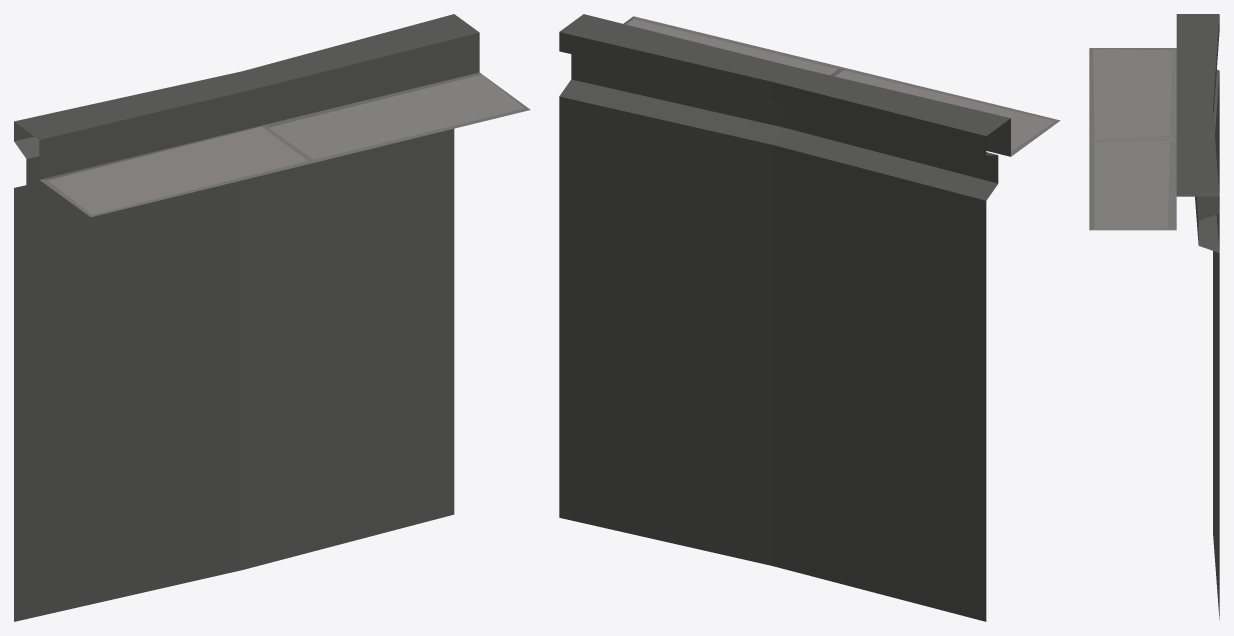
Rendered from SM_Env_WaterEdge_Straight_03.glb.
3 renders of one model, left to right at view 1: azimuth 30°, elevation 25°; view 2: azimuth 150°, elevation 25°; view 3: azimuth 270°, elevation 25°, orthographic. The views are drawn at different scales.
Visible parts, largest first — view 1: SM_Env_WaterEdge_Straight_03; view 2: SM_Env_WaterEdge_Straight_03; view 3: SM_Env_WaterEdge_Straight_03.
Boxes of the visible parts, <box> form: SM_Env_WaterEdge_Straight_03: <box>14,14,530,621</box>; SM_Env_WaterEdge_Straight_03: <box>559,14,1060,621</box>; SM_Env_WaterEdge_Straight_03: <box>1089,14,1219,619</box>.
Size of the model in its own units: 0.05 by 0.0543 by 0.0151.
Materials: 1 (1 with a texture image).
